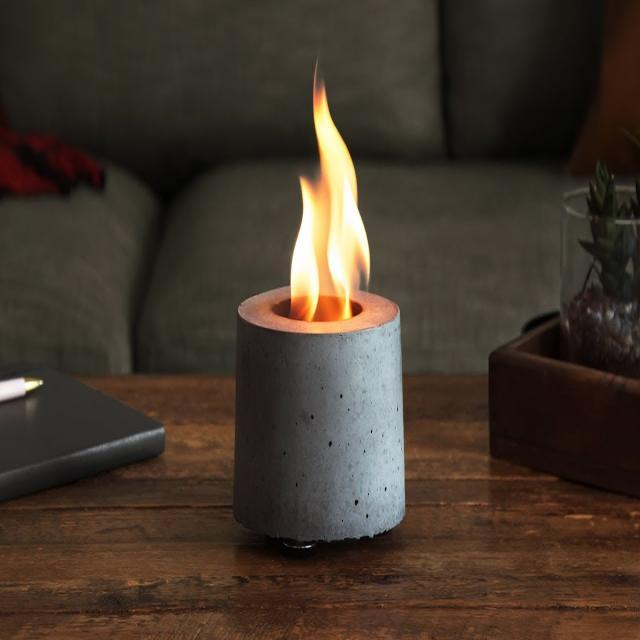Fire: (276, 48, 374, 334)
